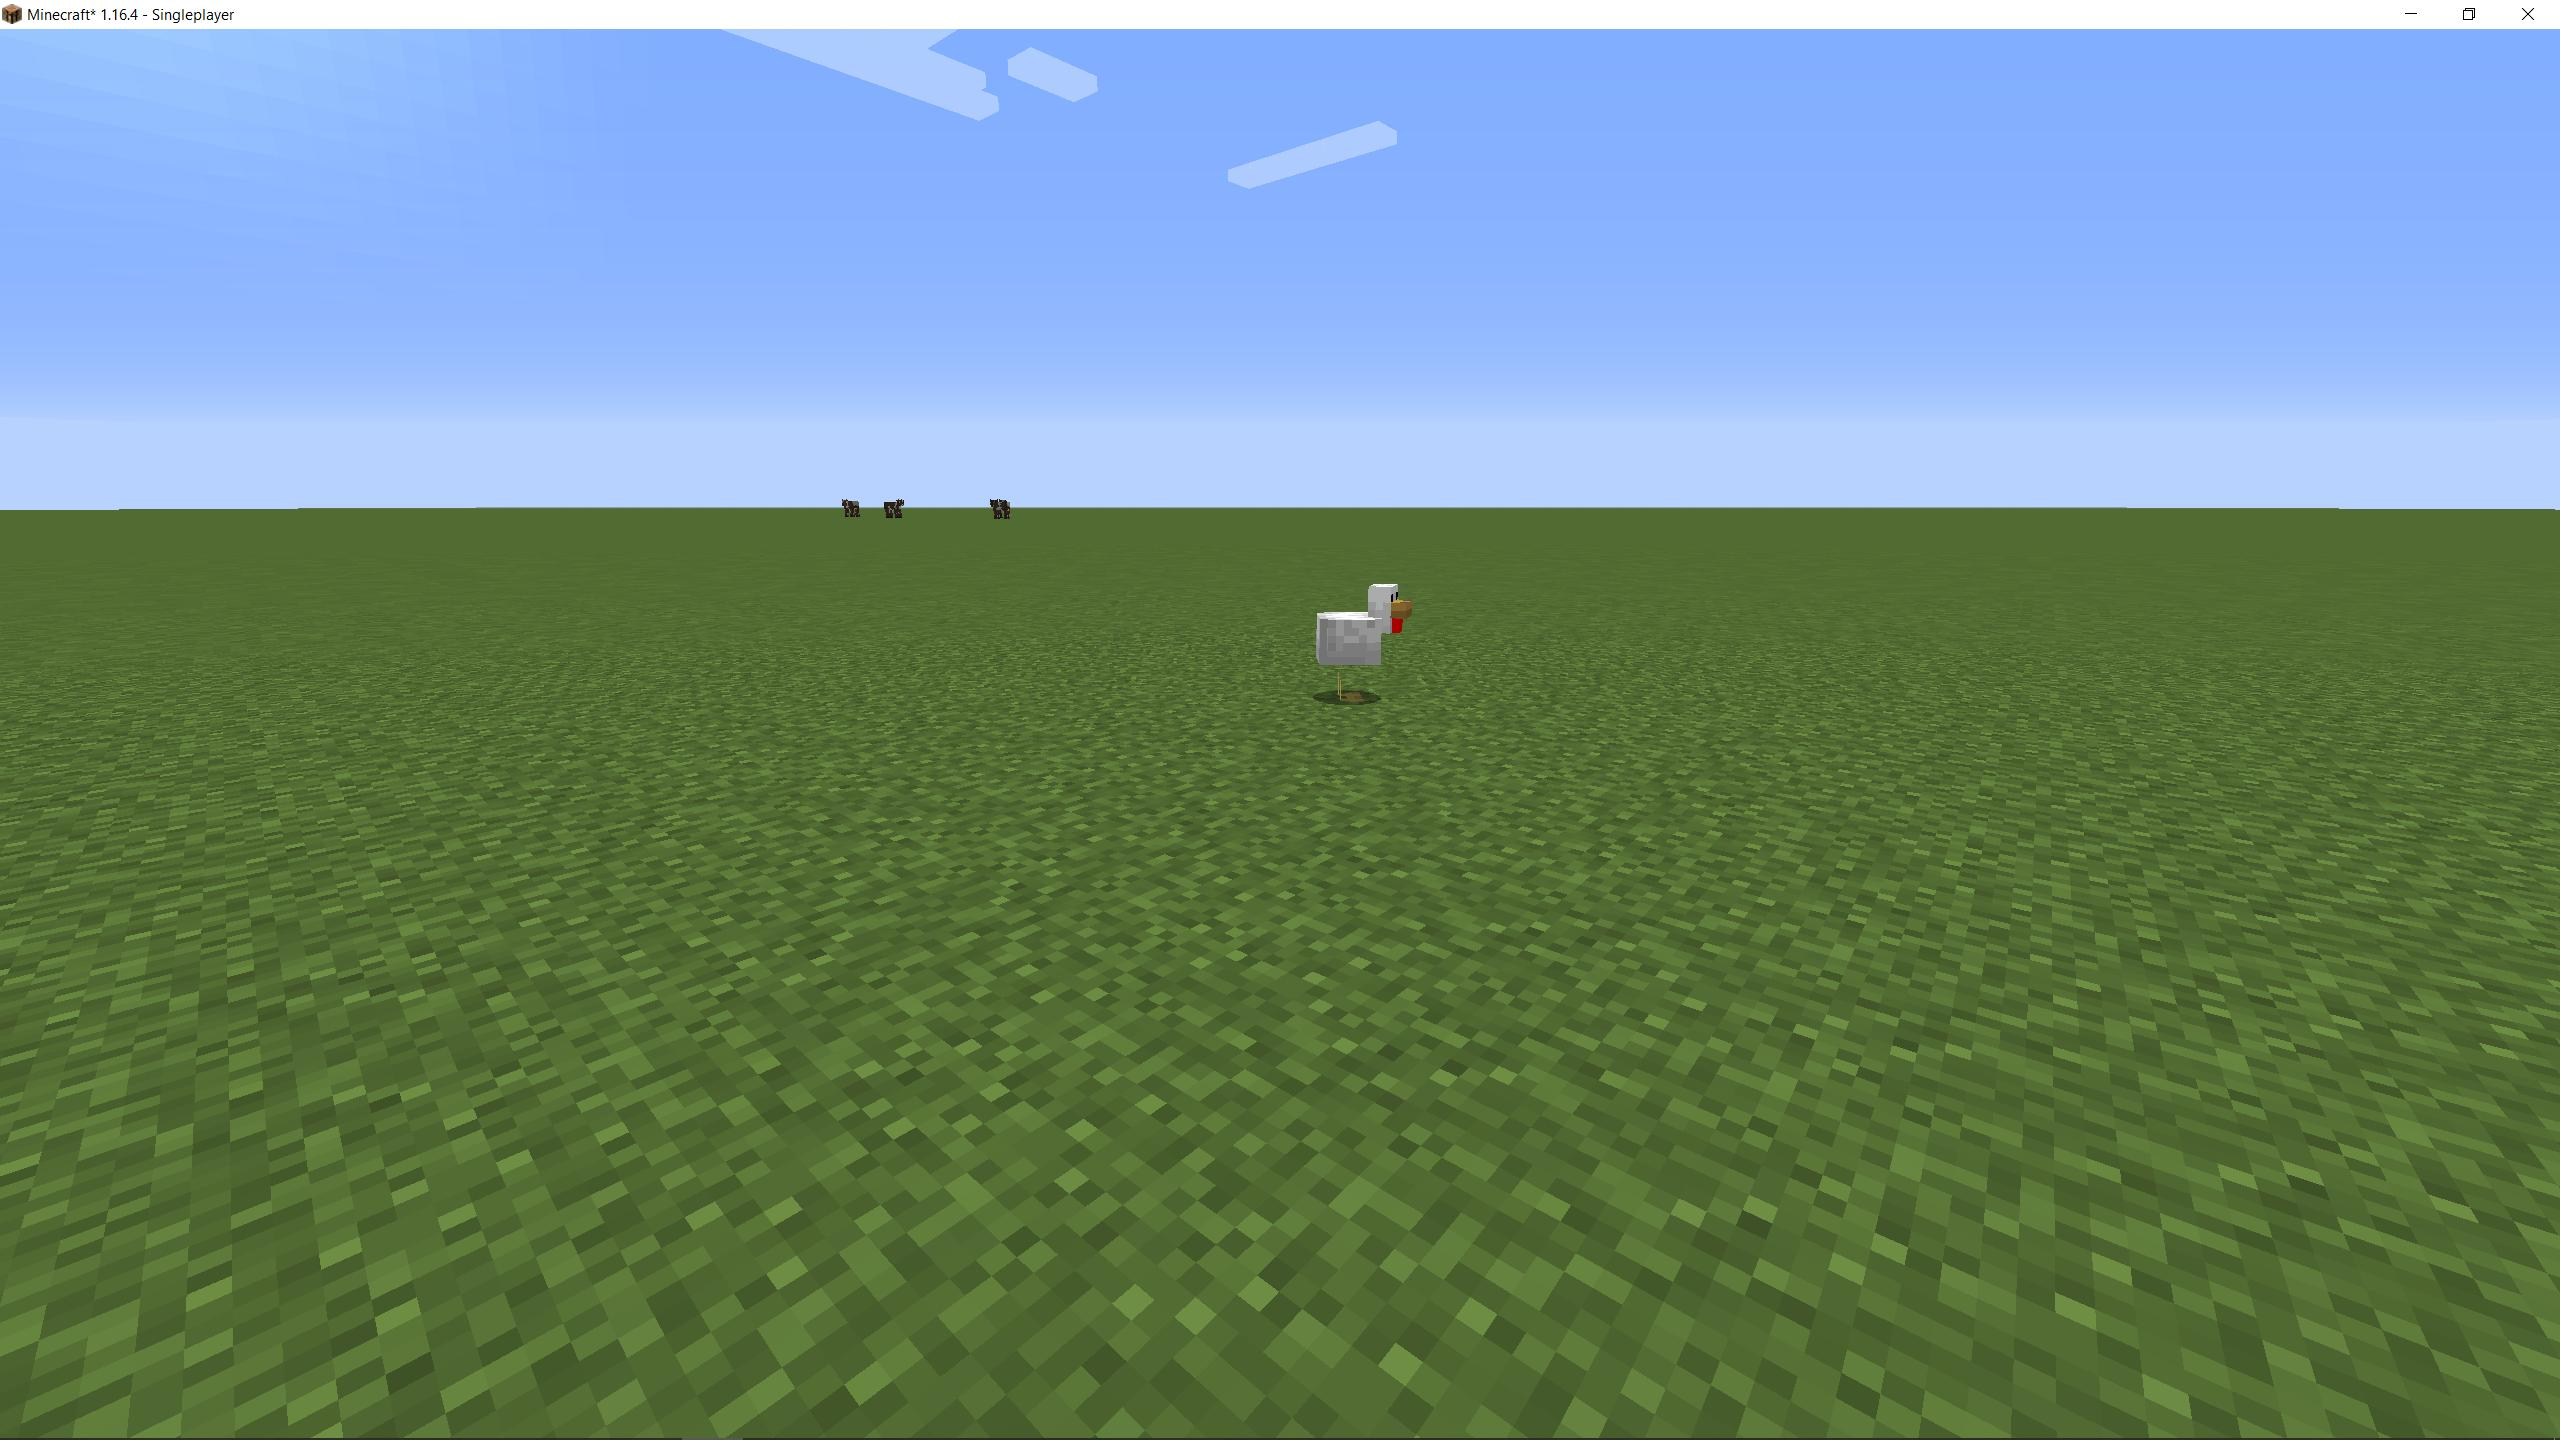chicken: (1312, 577, 1415, 707)
